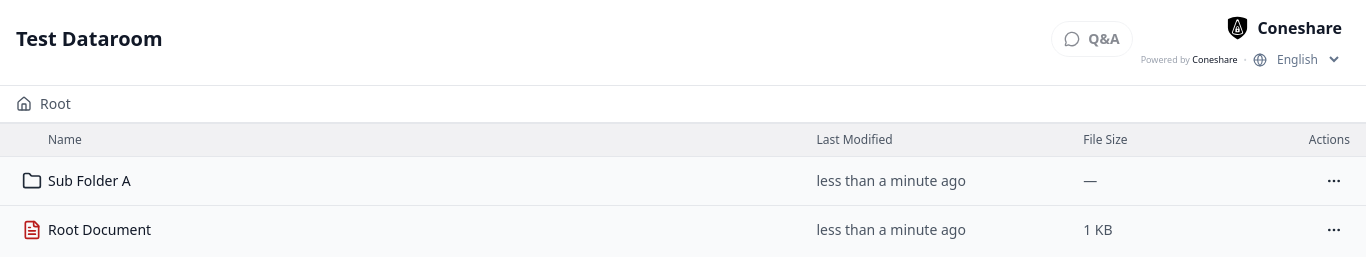
DataroomViewer › navigates back to root using the breadcrumb
Navigate into the sub-folder
Click the button titled "Sub Folder A": click(89, 180) x1=48 y1=171 x2=800 y2=191
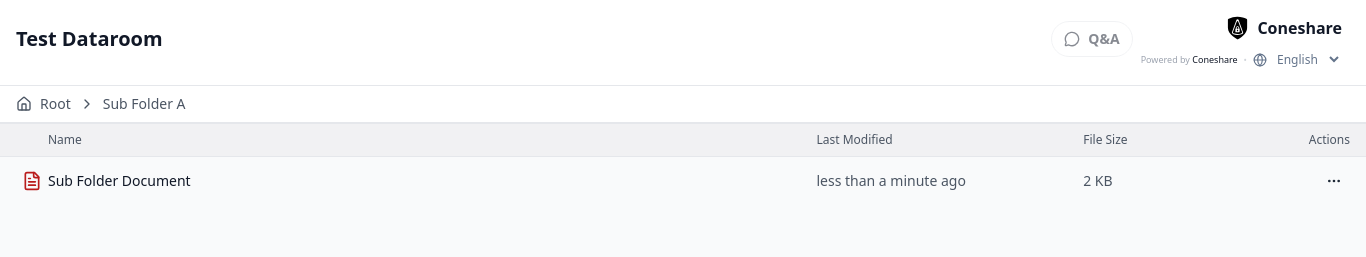
Expected: the button "Sub Folder Document" is shown, x1=48 y1=171 x2=800 y2=191
Click the "Root" breadcrumb
Click the button "Root": click(43, 104) x1=16 y1=94 x2=71 y2=114
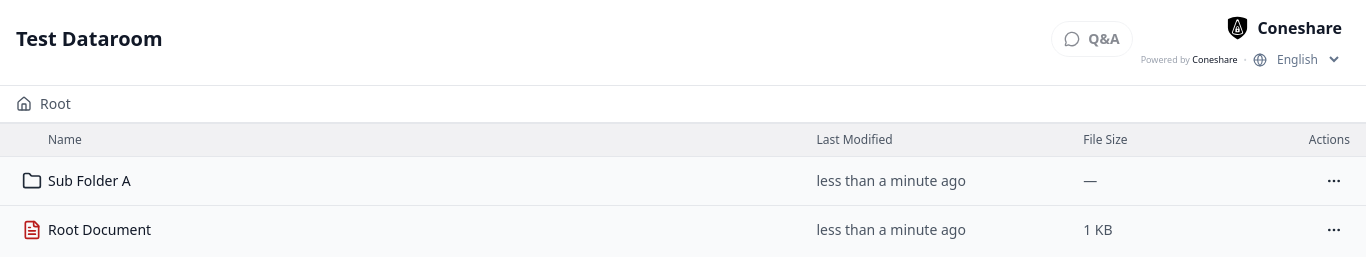
Expected: the button "Sub Folder A" is shown, x1=48 y1=171 x2=800 y2=191
Expected: the button "Root Document" is shown, x1=48 y1=220 x2=800 y2=240
Expected: the button "Sub Folder Document" is gone
